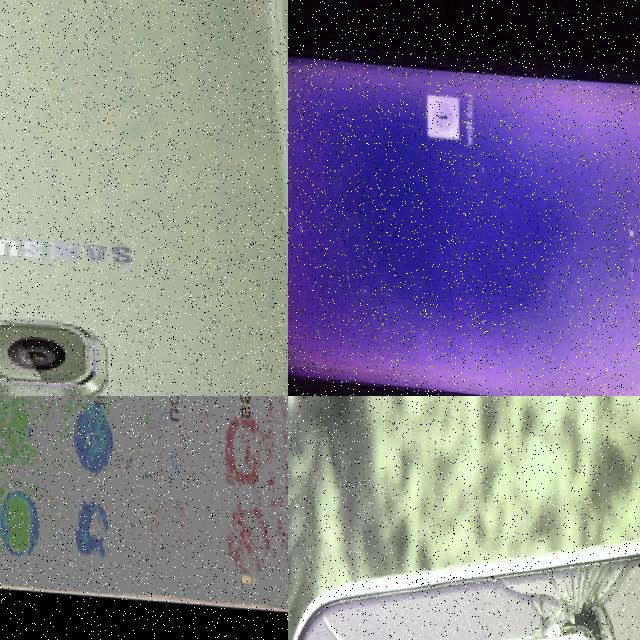screen crack: (288, 505, 640, 640)
